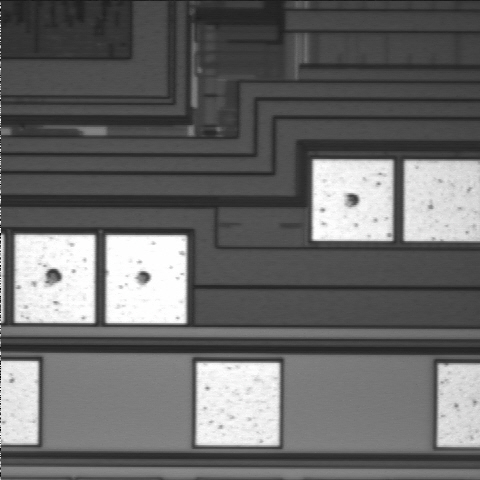pad: (106, 235, 187, 324), (196, 362, 280, 446), (15, 235, 95, 323), (312, 159, 393, 241)
